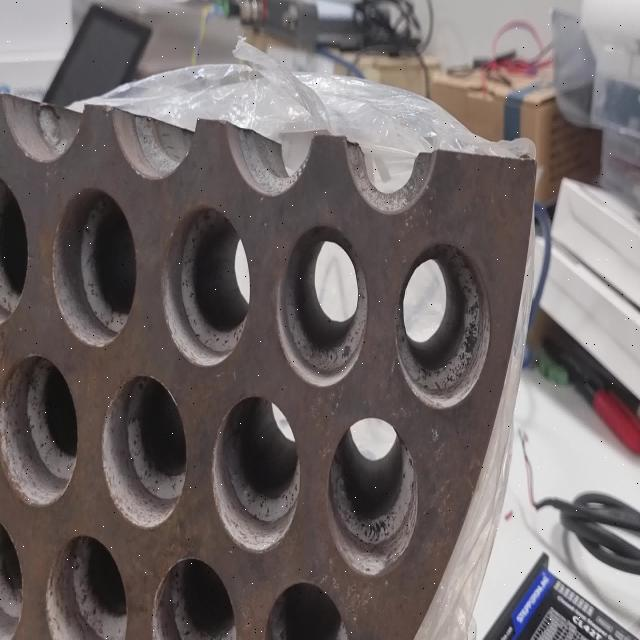Hole: (395, 239, 492, 409), (276, 223, 368, 387), (162, 205, 250, 368), (211, 394, 301, 553), (327, 418, 417, 576), (52, 187, 136, 348), (101, 374, 187, 530), (1, 354, 78, 508), (45, 534, 127, 640), (152, 554, 236, 640)
